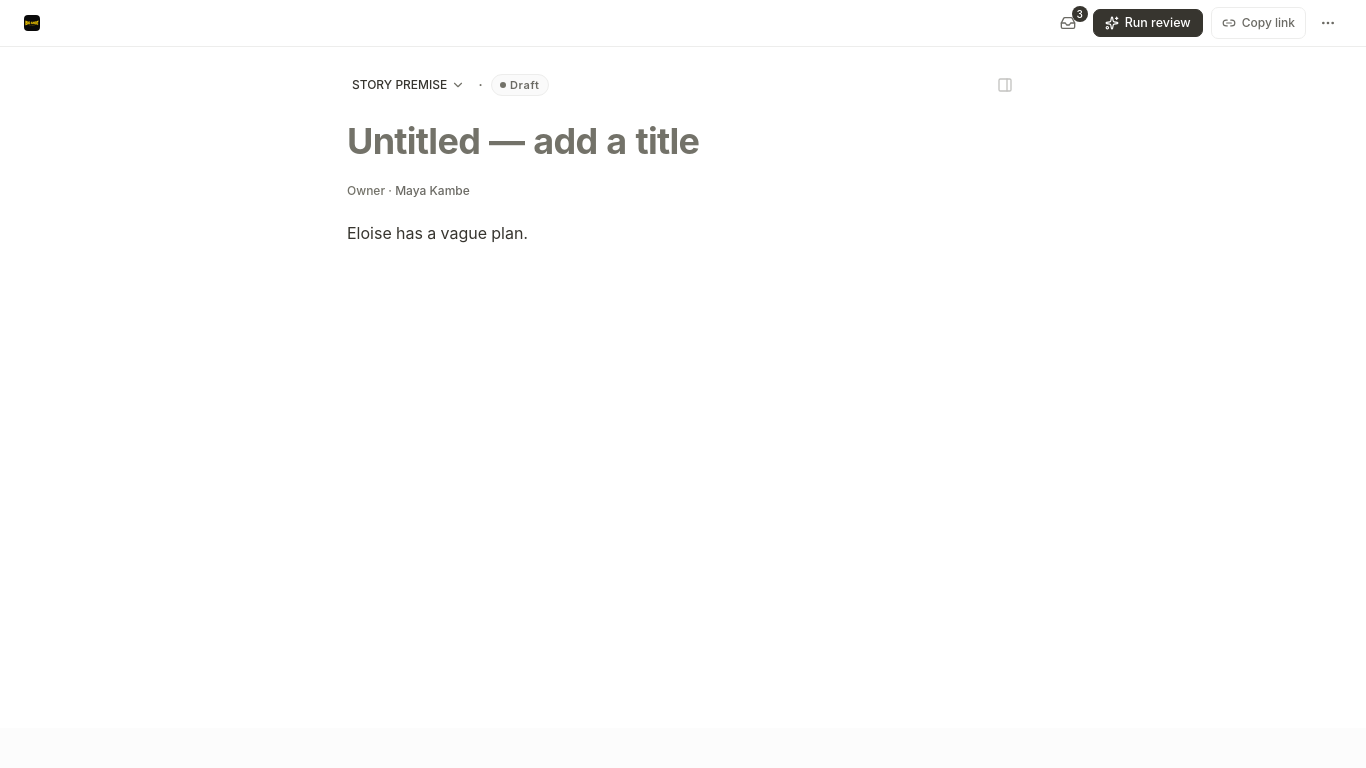
Scenario: DocumentPage apply (AI rewrite) — accept / discard › does not offer Confirm submission while awaiting the decision
What coordinates should you click on to do the following:
click the button "Run review"
I would click on:
 (1148, 23)
Its box is [1093,9,1203,37].
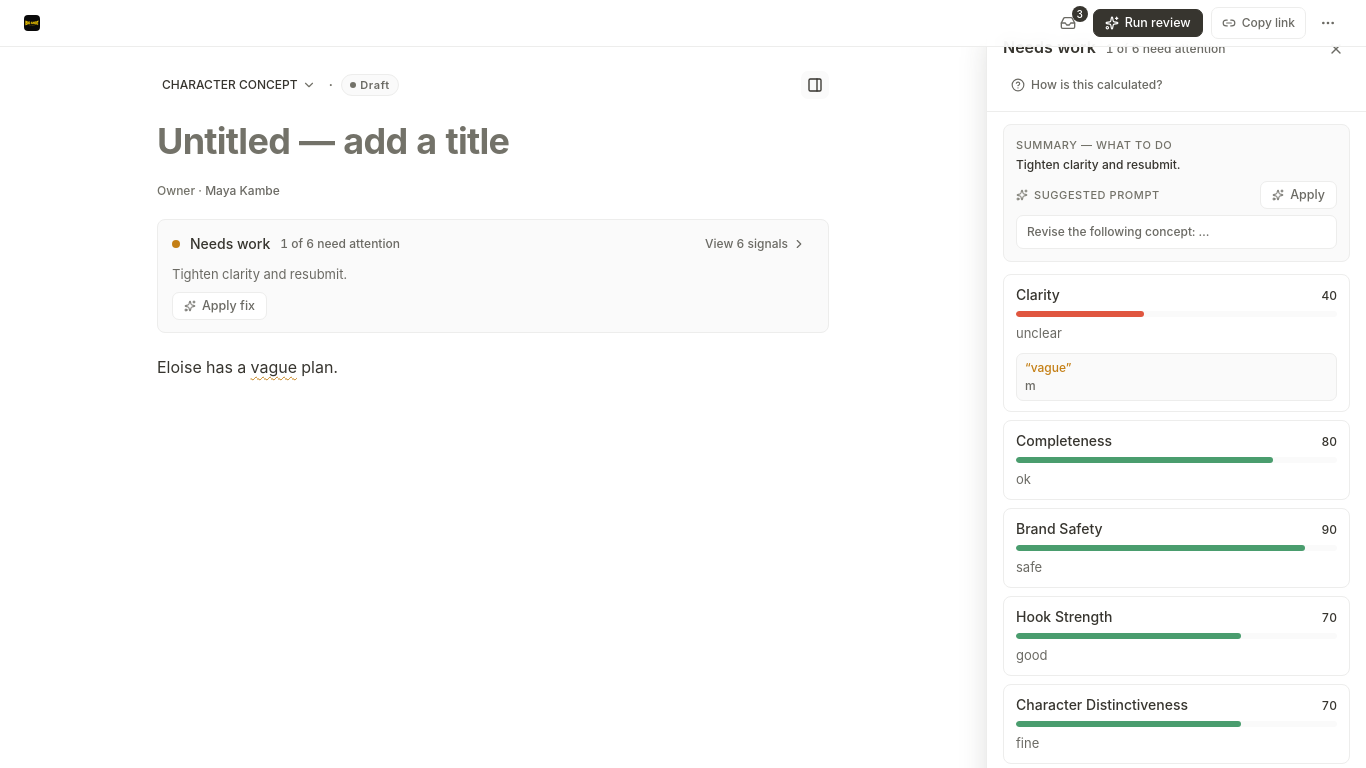
What coordinates should you click on to do the following:
click the button with aria-label "apply suggested prompt"
I would click on:
 (1299, 195)
Its box is [1260,181,1337,209].
(page scrolled)
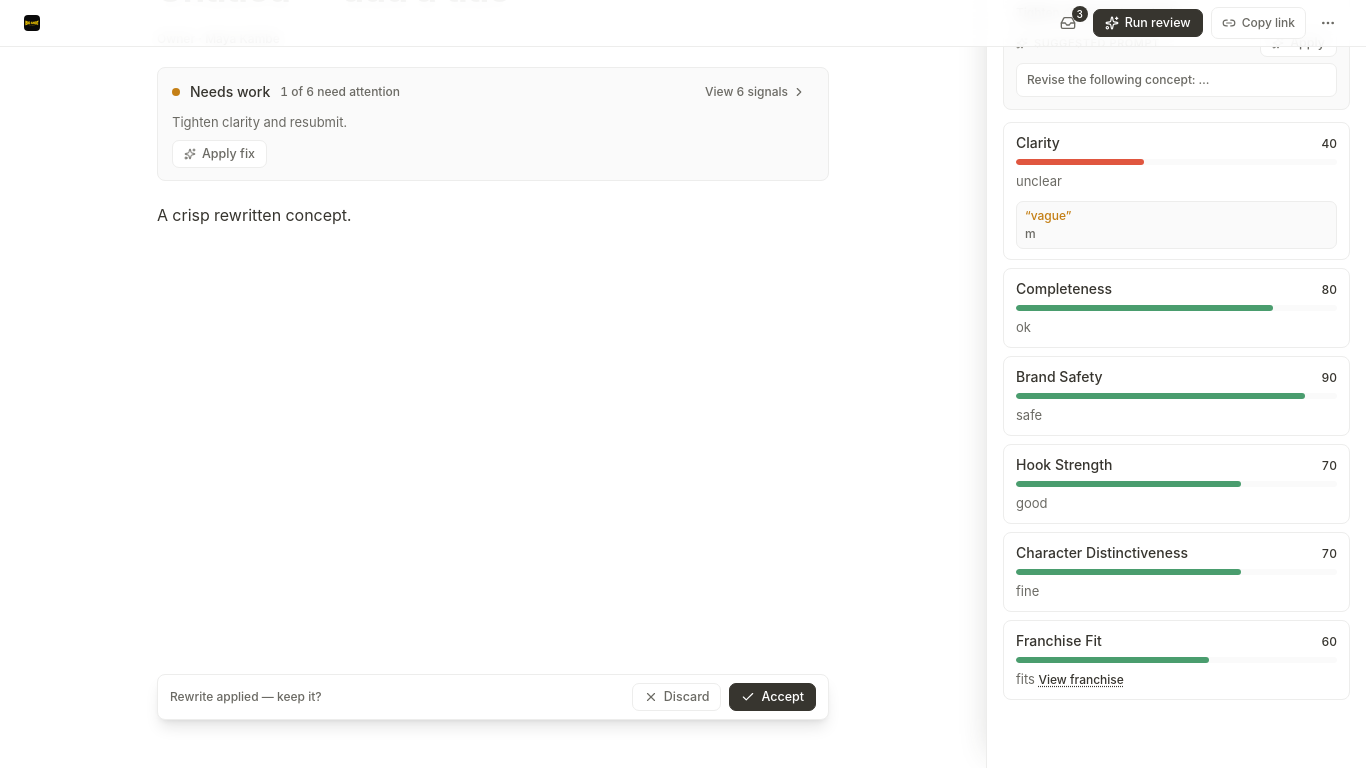
Expected: the button "Accept" is shown, [730,683,816,711]
